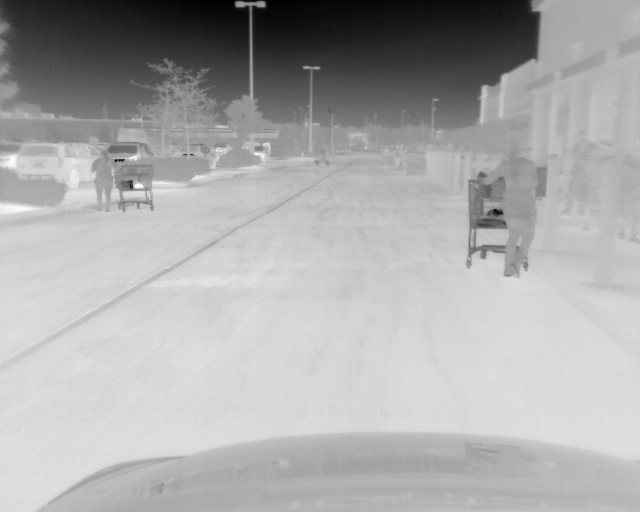car: (14, 140, 102, 191), (175, 142, 216, 169), (108, 142, 155, 163), (244, 143, 271, 163), (210, 141, 233, 155)
people: (480, 141, 541, 278), (581, 133, 618, 231), (562, 131, 597, 216), (620, 138, 640, 242), (92, 148, 115, 210)
